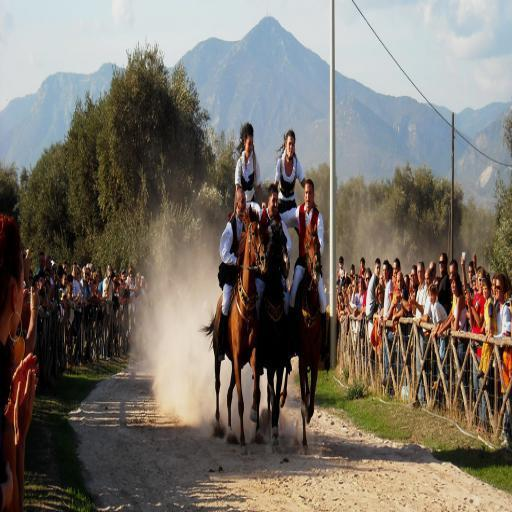horse: (197, 216, 290, 452), (196, 204, 270, 452), (278, 223, 322, 457)
